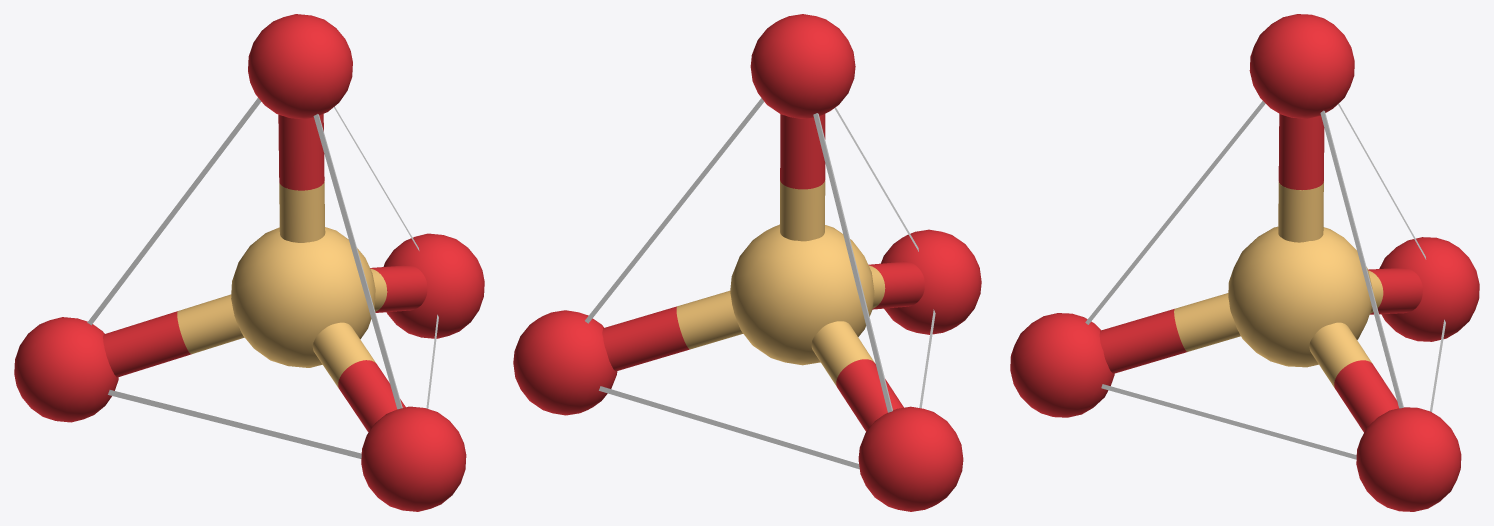
The picture shows the model from 3 angles, left to right: view 1: azimuth 30°, elevation 25°; view 2: azimuth 150°, elevation 25°; view 3: azimuth 270°, elevation 25°; orthographic projection.
Parts seen in each view (by area): view 1: Shape_IndexedFaceSet.017, Cone; view 2: Shape_IndexedFaceSet.017, Cone; view 3: Shape_IndexedFaceSet.017, Cone.
Boxes of the visible parts, <box> form: Shape_IndexedFaceSet.017: <box>14,14,484,511</box>; Cone: <box>87,98,438,458</box>; Shape_IndexedFaceSet.017: <box>513,14,981,511</box>; Cone: <box>585,98,935,469</box>; Shape_IndexedFaceSet.017: <box>1010,14,1479,511</box>; Cone: <box>1085,101,1445,459</box>.
Size of the model in its own units: 4.75 by 4.08 by 4.33.
